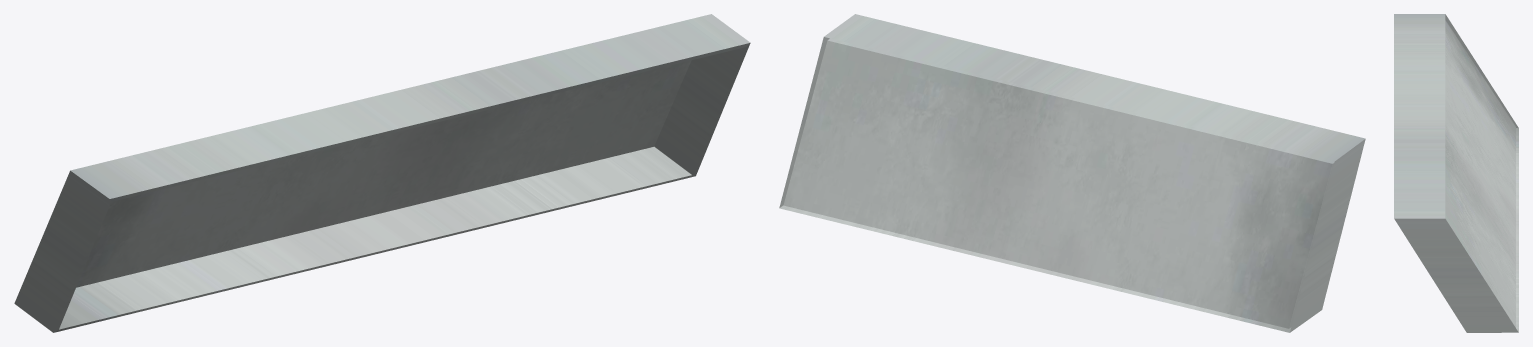
The model's file is light_frame_01.fbx.
3 views of the same model, side by side, from view 1: azimuth 30°, elevation 25°; view 2: azimuth 150°, elevation 25°; view 3: azimuth 270°, elevation 25° (orthographic). The views are drawn at different scales.
Visible parts, largest first — view 1: Object012; view 2: Object012; view 3: Object012.
Boxes of the visible parts, box(x1,y1,x2,y2) form: Object012: box(14, 14, 750, 332); Object012: box(779, 14, 1365, 332); Object012: box(1394, 14, 1518, 332).
Bounding box in the file's own units: 227 × 58.94 × 58.44.
